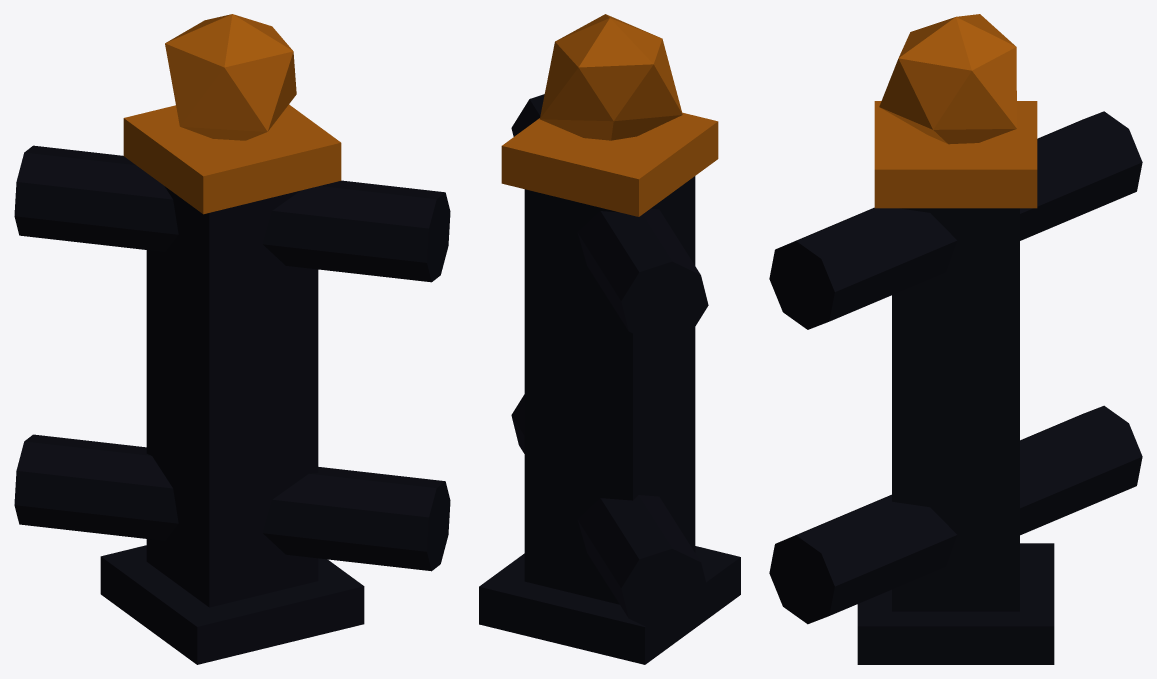
Rendered from Carnival_Run_Rail_Corner_XFront.fbx.
The picture shows the model from 3 angles, left to right: view 1: azimuth 30°, elevation 25°; view 2: azimuth 150°, elevation 25°; view 3: azimuth 270°, elevation 25°; orthographic projection. The views are drawn at different scales.
Parts seen in each view (by area): view 1: Carnival_Run_Rail_Corner_XFront; view 2: Carnival_Run_Rail_Corner_XFront; view 3: Carnival_Run_Rail_Corner_XFront.
Boxes of the visible parts, box(x1,y1,x2,y2) form: Carnival_Run_Rail_Corner_XFront: box(14, 14, 450, 664); Carnival_Run_Rail_Corner_XFront: box(479, 14, 740, 664); Carnival_Run_Rail_Corner_XFront: box(769, 14, 1142, 664).
Bounding box in the file's own units: 0.4367 × 0.7831 × 0.4367.
